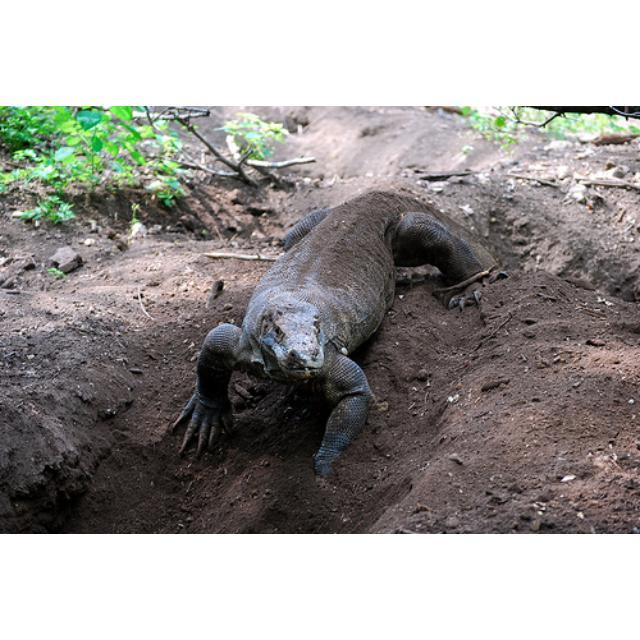KomodoDragon: (168, 188, 499, 486)
